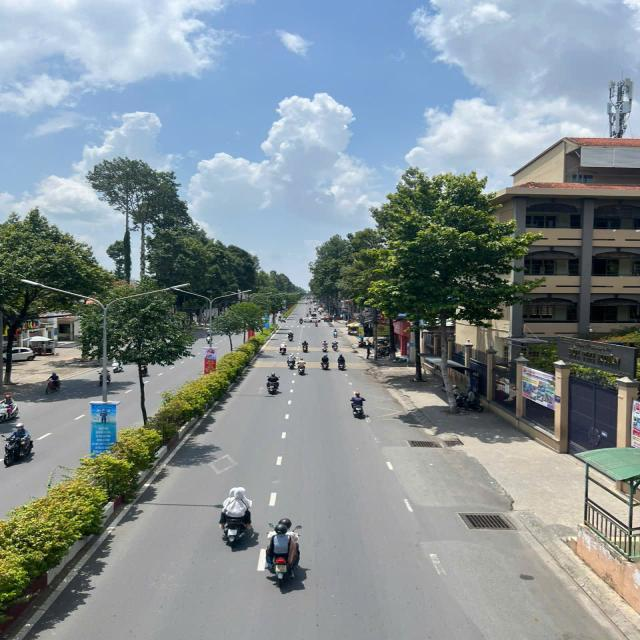car: (324, 316, 332, 322), (321, 315, 327, 318), (320, 311, 325, 314), (318, 308, 323, 311)
motobyte: (268, 521, 300, 596), (222, 487, 255, 547), (351, 393, 366, 419), (266, 374, 278, 396), (338, 353, 347, 372), (321, 354, 330, 370), (298, 359, 305, 375), (288, 354, 295, 369), (280, 343, 288, 355), (302, 340, 309, 352), (321, 340, 328, 352), (333, 339, 339, 351), (287, 330, 294, 340), (333, 329, 338, 338), (314, 321, 319, 328), (300, 318, 303, 324), (305, 312, 309, 316), (309, 308, 311, 310)
non-motorized vehicle: (311, 312, 317, 317)
